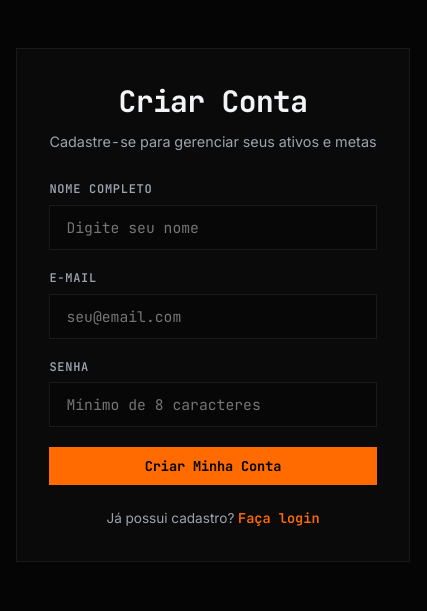
Test: RegisterPage › handles register error
In the field labelled "Nome Completo": coordinates (213, 227) x1=49 y1=205 x2=376 y2=250, type "Test"
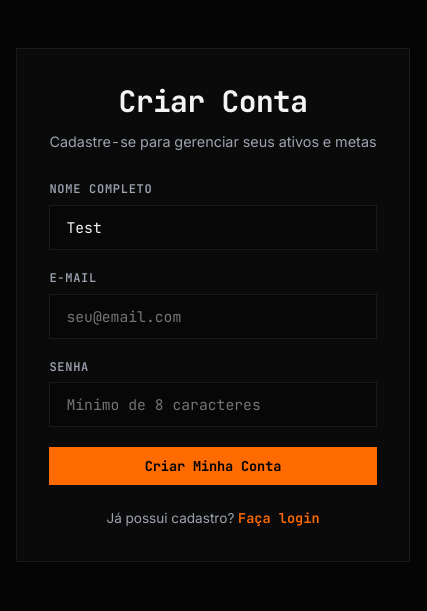
In the field labelled "E-mail": coordinates (213, 316) x1=49 y1=294 x2=376 y2=339, type "test@test.com"
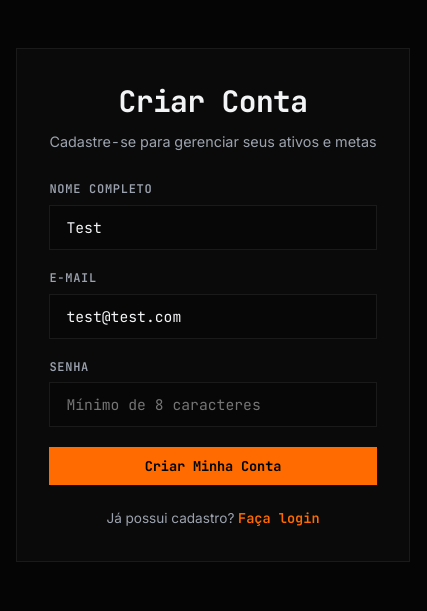
In the password field labelled "Senha": coordinates (213, 405) x1=49 y1=382 x2=376 y2=427, type "password123"
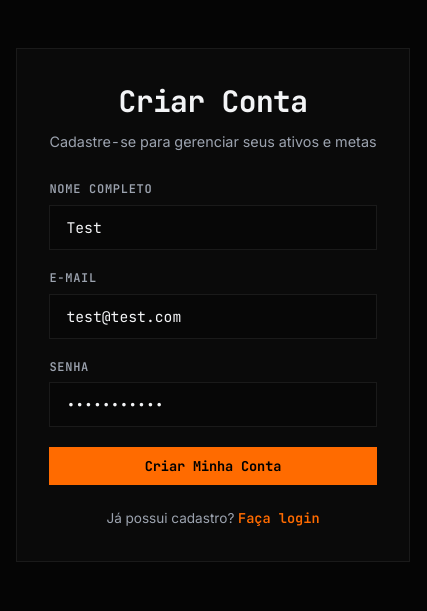
Click the button "Criar Minha Conta": coordinates (213, 466) x1=49 y1=447 x2=376 y2=485
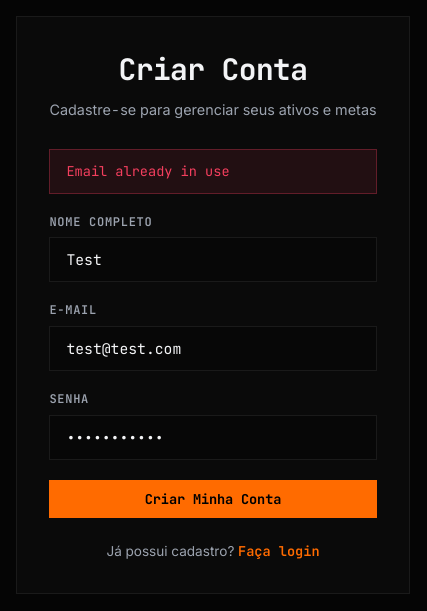
Expected: the text "Email already in use" is shown, x1=49 y1=148 x2=376 y2=194
